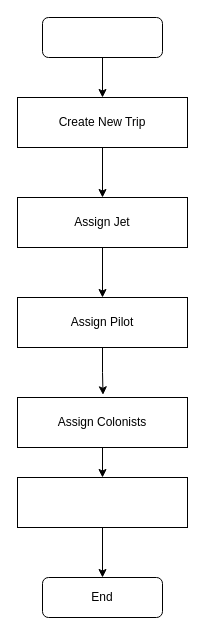
The diagram is 205 pixels wide and 635 high, and some of its shapes have lost their labels. The centre of each missing label's shape, as x and y in pixels:
Confirm Shedule: point (102, 502)
Start: point (102, 37)
